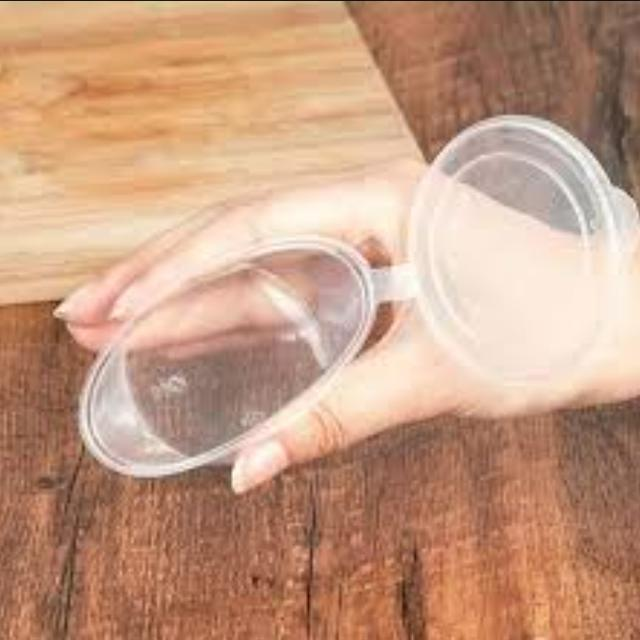GelasPlastik: (70, 111, 639, 481)
